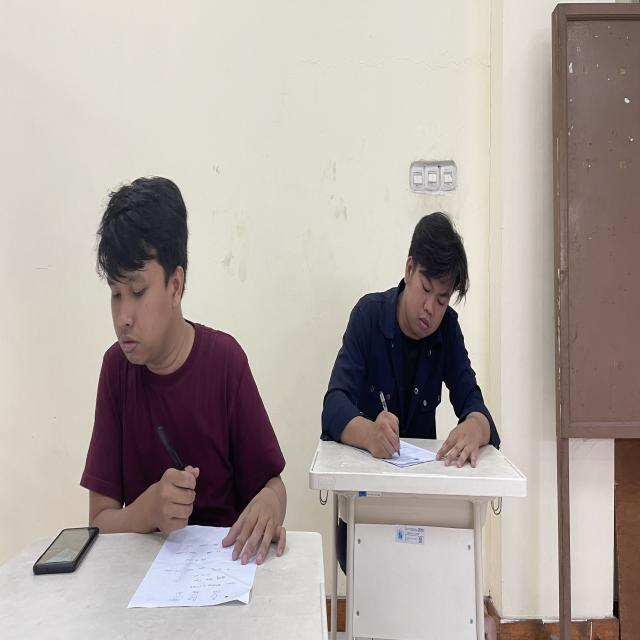non-cheating: (30, 524, 106, 577)
